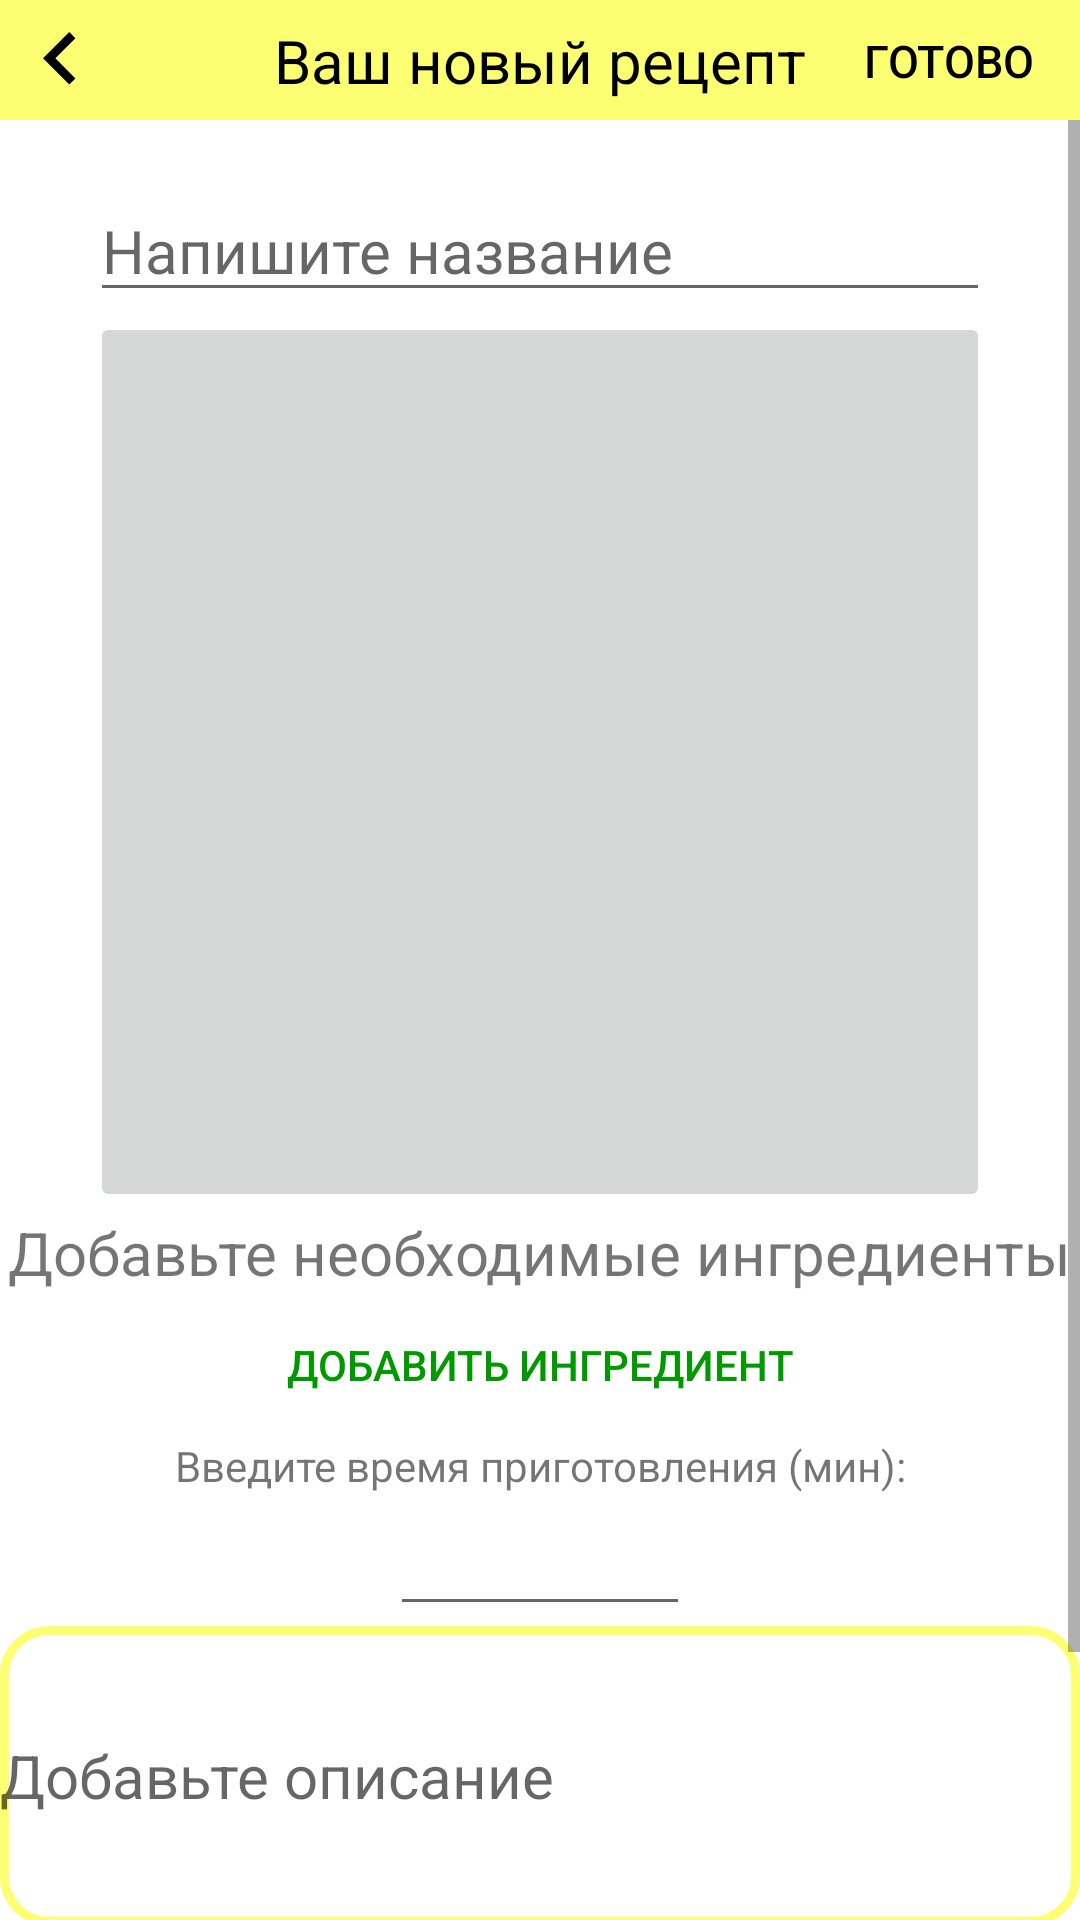

Icons on this 1080×1920 Android screen, each with the point to tap as [x,y]:
arrow left: [59,58]
